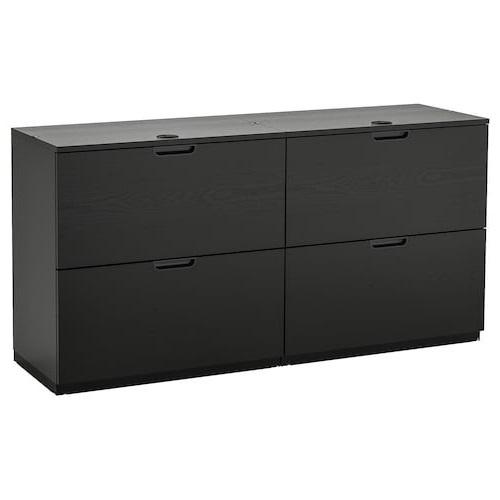cabinet_door: (62, 144, 288, 266), (64, 258, 283, 370), (282, 132, 480, 244), (286, 240, 480, 350)
handle: (151, 255, 198, 276), (153, 140, 198, 160), (368, 236, 409, 252), (371, 128, 410, 144)
